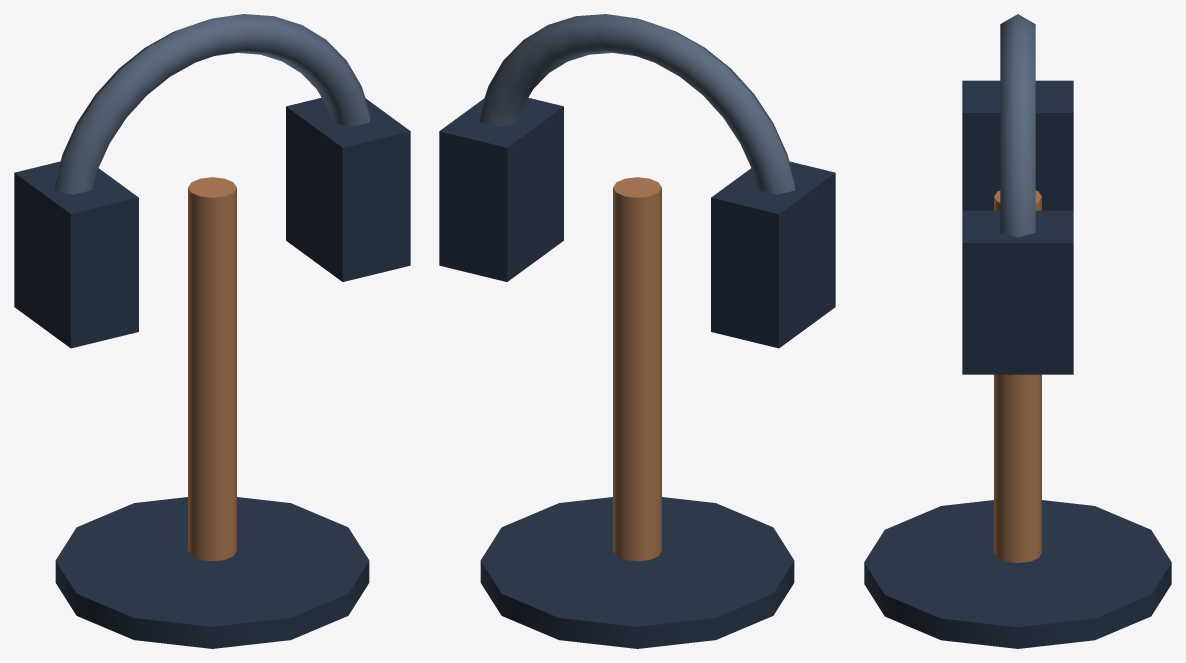
File: officeHeadphones.glb
3 renders of one model, left to right at view 1: azimuth 30°, elevation 25°; view 2: azimuth 150°, elevation 25°; view 3: azimuth 270°, elevation 25°, orthographic. The views are drawn at different scales.
Bounding box in the file's own units: 0.225 × 0.357 × 0.18.
